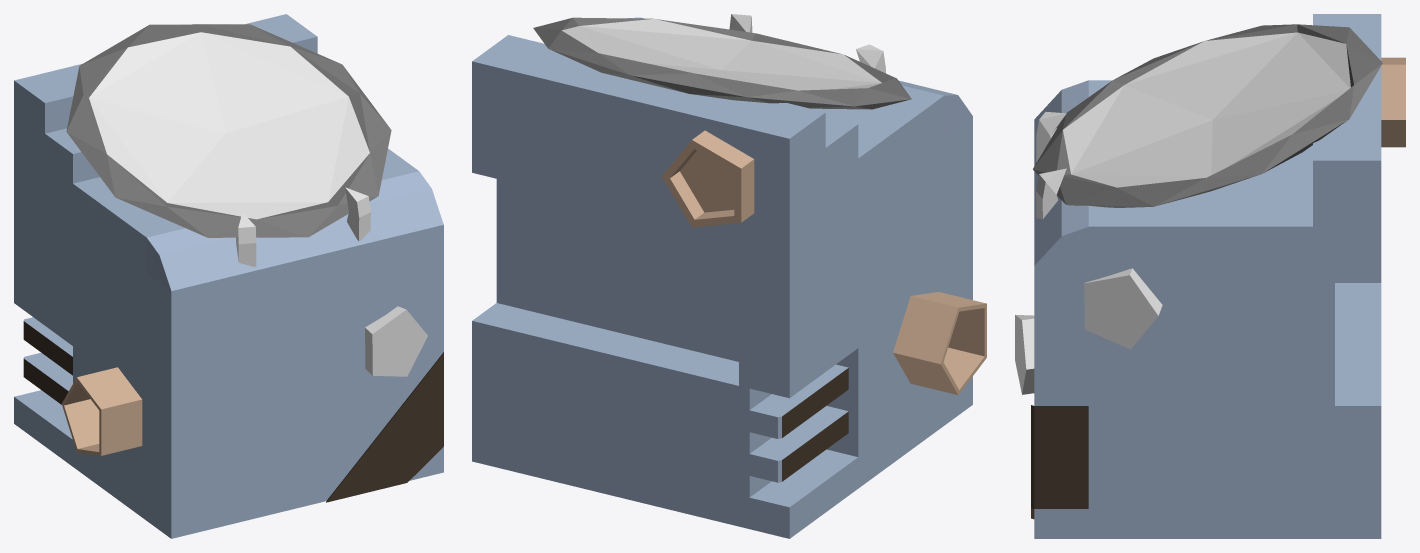
Rendered from mad_machine5.fbx.
3 renders of one model, left to right at view 1: azimuth 30°, elevation 25°; view 2: azimuth 150°, elevation 25°; view 3: azimuth 270°, elevation 25°, orthographic. The views are drawn at different scales.
Visible parts, largest first — view 1: Deco_Penta; view 2: Deco_Penta; view 3: Deco_Penta.
Boxes of the visible parts, left/top/right/bottom form: Deco_Penta: left=14, top=14, right=443, bottom=538; Deco_Penta: left=472, top=14, right=986, bottom=538; Deco_Penta: left=1015, top=14, right=1405, bottom=538.
Size of the model in its own units: 402 by 420 by 369.
